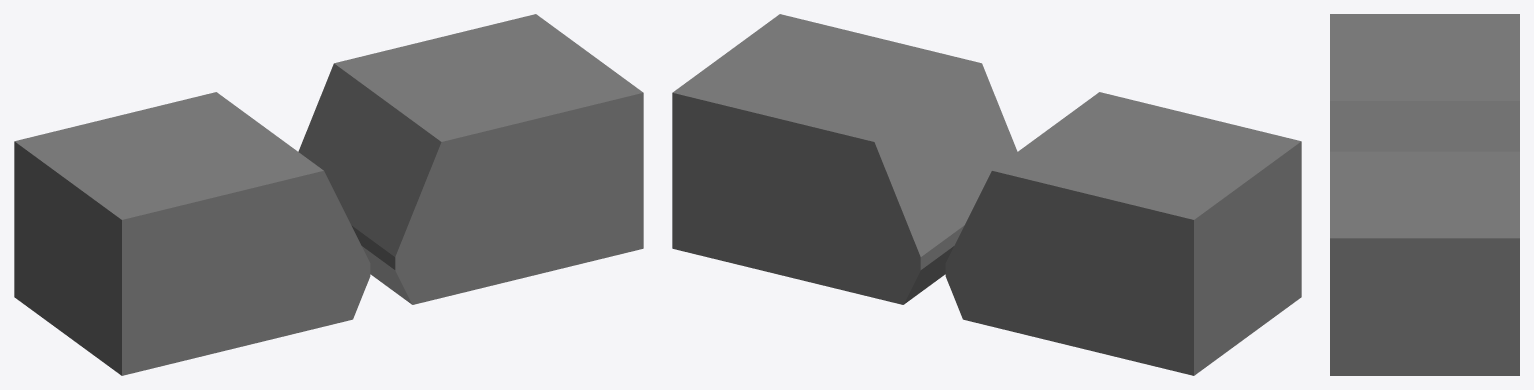
The model's file is С39_Кромки.glb.
3 renders of one model, left to right at view 1: azimuth 30°, elevation 25°; view 2: azimuth 150°, elevation 25°; view 3: azimuth 270°, elevation 25°, orthographic. The views are drawn at different scales.
Parts seen in each view (by area): view 1: node_id3; view 2: node_id3; view 3: node_id3.
Part boxes in pixels (x1,y1,x2,y2): node_id3: [14, 14, 643, 375]; node_id3: [672, 14, 1301, 375]; node_id3: [1330, 14, 1519, 375].
Size of the model in its own units: 0.512 by 0.1463 by 0.1829.
Materials: 1 (1 with a texture image).
